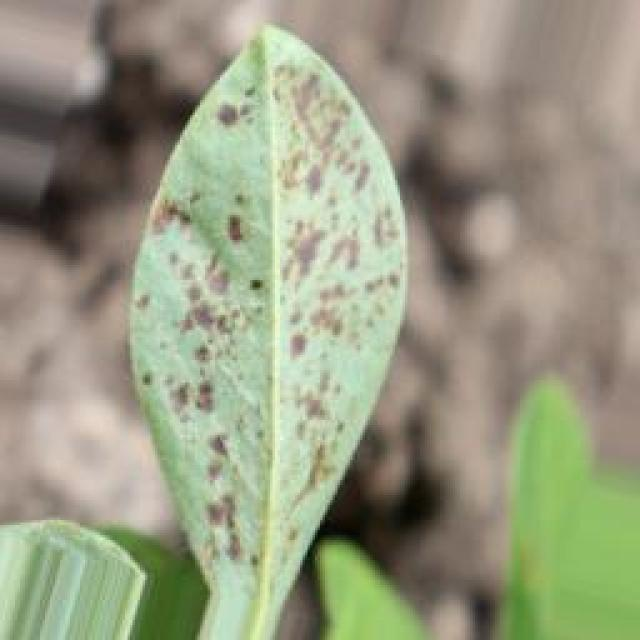Whitefly: (114, 29, 420, 623)
